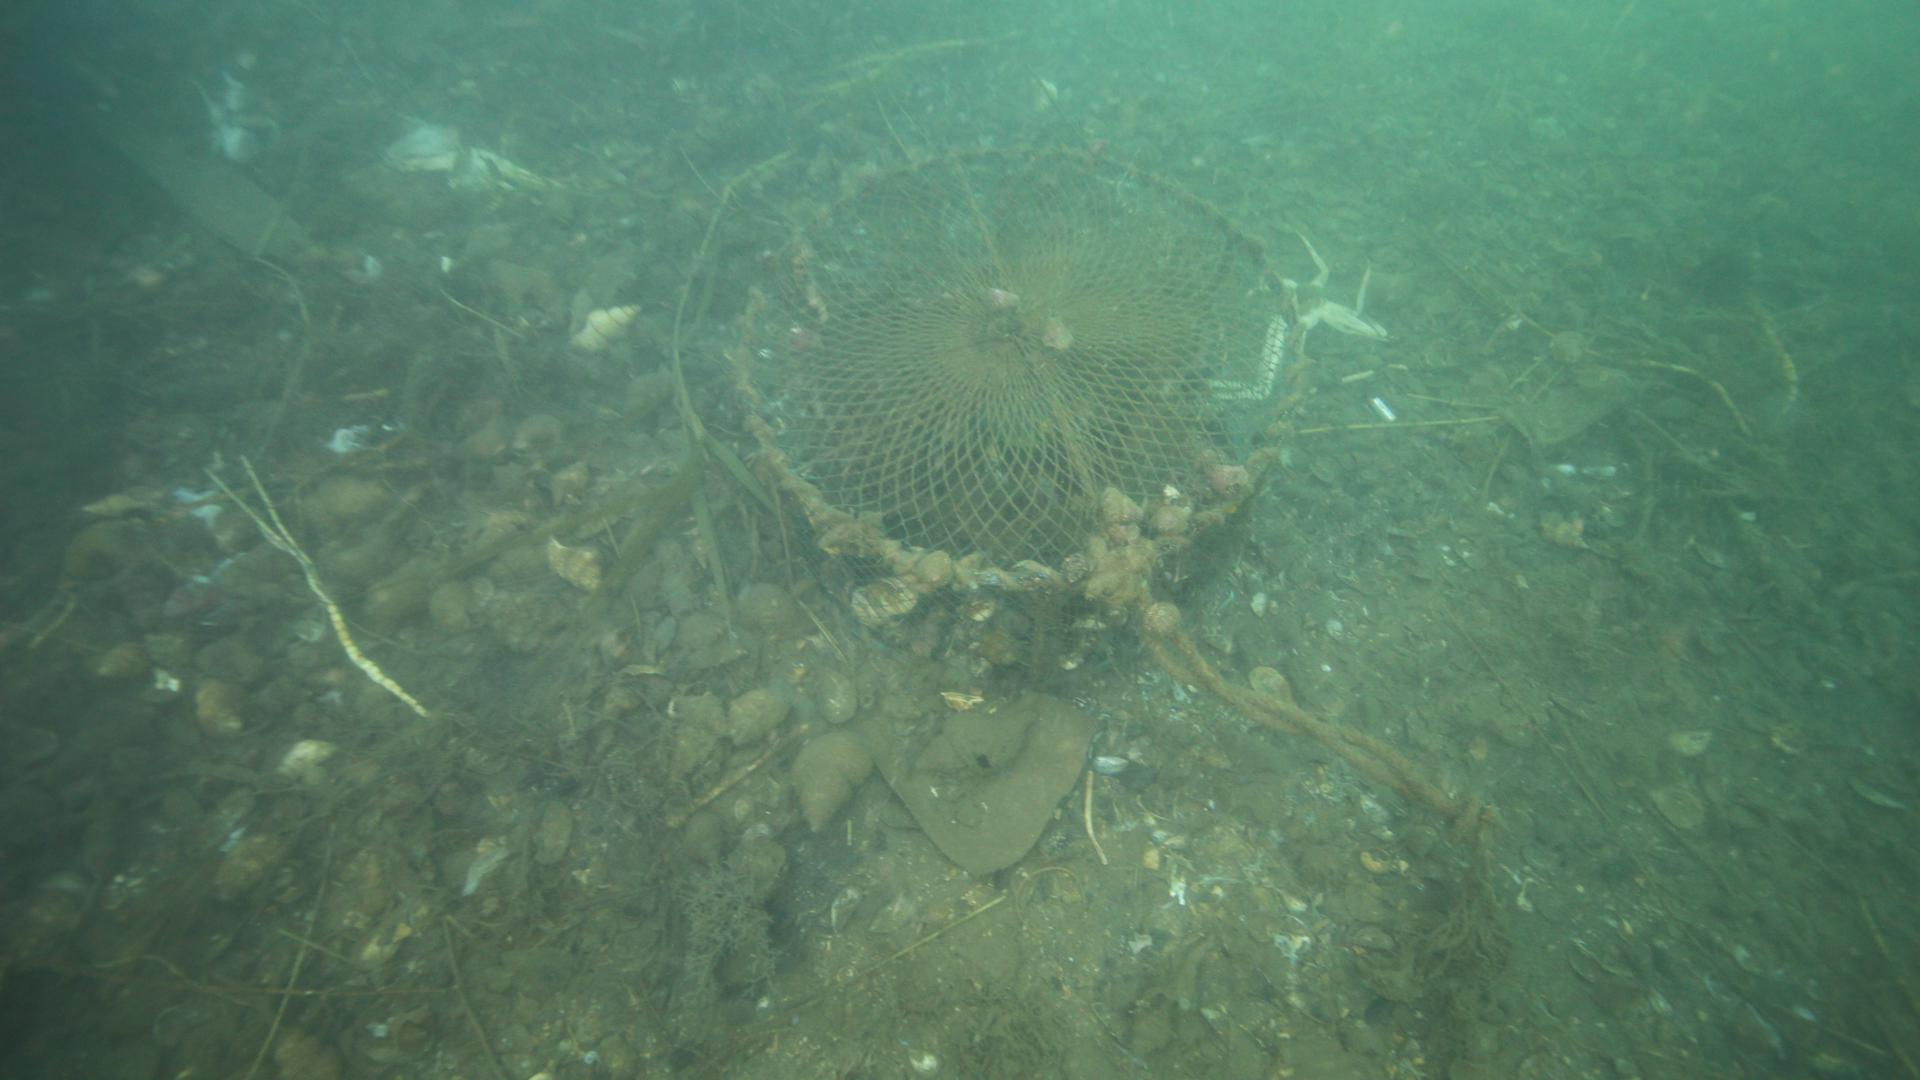bundle of ropes: (1124, 597, 1462, 869)
circular fish trap: (732, 141, 1312, 593)
